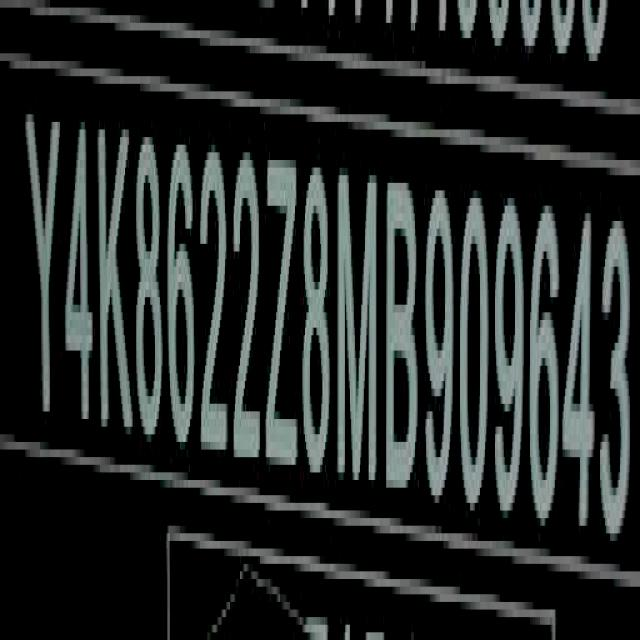0: (459, 164, 487, 521)
2: (200, 131, 230, 470), (232, 135, 261, 476)
3: (603, 210, 633, 549)
4: (63, 100, 96, 442), (565, 203, 595, 544)
6: (529, 200, 559, 539), (167, 119, 196, 453)
8: (136, 115, 166, 450), (303, 158, 331, 483)
9: (424, 164, 455, 510), (496, 180, 526, 529)
B: (388, 168, 422, 499)
K: (96, 107, 136, 463)
M: (339, 149, 381, 494)
Y: (27, 93, 62, 423)
Z: (267, 146, 300, 486)
